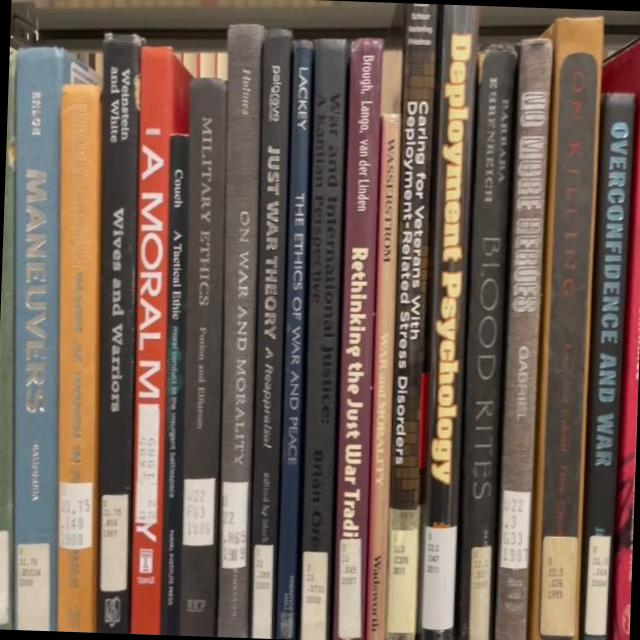book: (534, 16, 603, 640), (413, 4, 479, 640), (452, 45, 517, 640), (207, 24, 267, 636), (493, 38, 551, 640), (383, 5, 437, 640), (90, 32, 144, 633), (8, 45, 63, 630), (331, 40, 384, 640), (296, 47, 349, 638), (244, 29, 293, 639), (582, 90, 635, 640), (177, 78, 227, 635), (127, 45, 172, 634), (273, 43, 315, 638), (54, 85, 99, 631), (365, 113, 401, 640), (157, 135, 189, 633), (612, 78, 640, 640), (0, 49, 17, 629)
